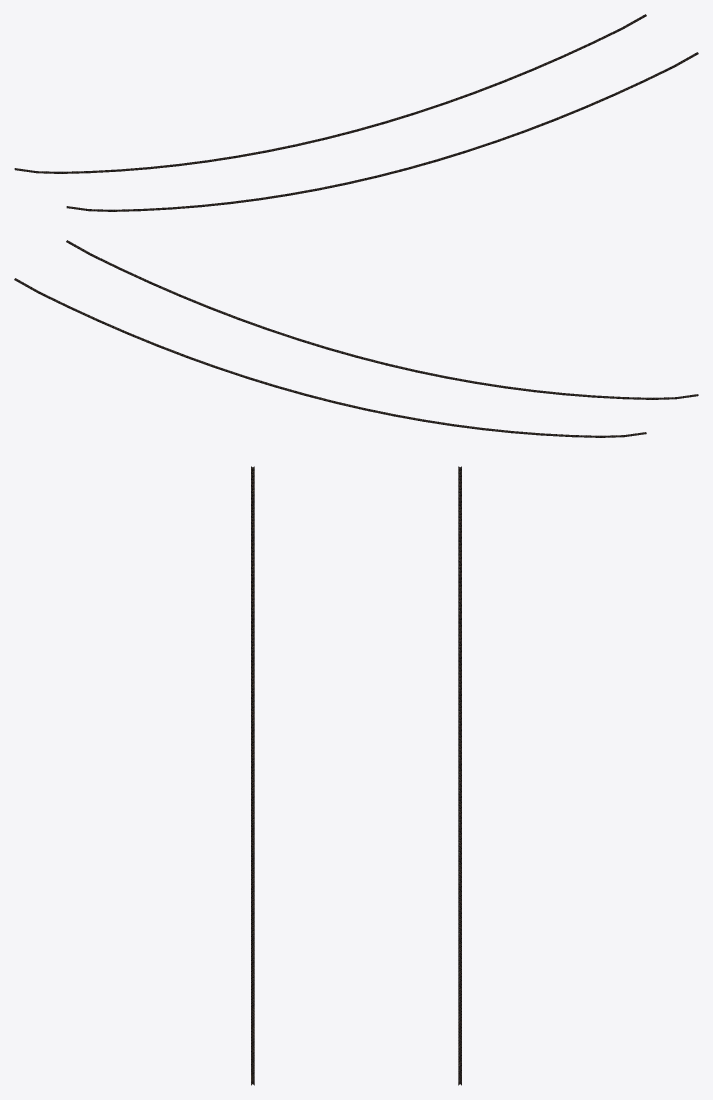
The picture shows the model from 3 angles, top to bottom: view 1: azimuth 30°, elevation 25°; view 2: azimuth 150°, elevation 25°; view 3: azimuth 270°, elevation 25°; orthographic projection. The views are drawn at different scales.
Parts seen in each view (by area): view 1: OM_20_mi_f06obj05B; view 2: OM_20_mi_f06obj05B; view 3: OM_20_mi_f06obj05B.
Boxes of the visible parts, left/top/right/bottom form: OM_20_mi_f06obj05B: left=14, top=14, right=698, bottom=211; OM_20_mi_f06obj05B: left=14, top=240, right=698, bottom=437; OM_20_mi_f06obj05B: left=251, top=466, right=461, bottom=1085.
Size of the model in its own units: 55.71 by 3.94 by 8.05.
Materials: 1 (1 with a texture image).
